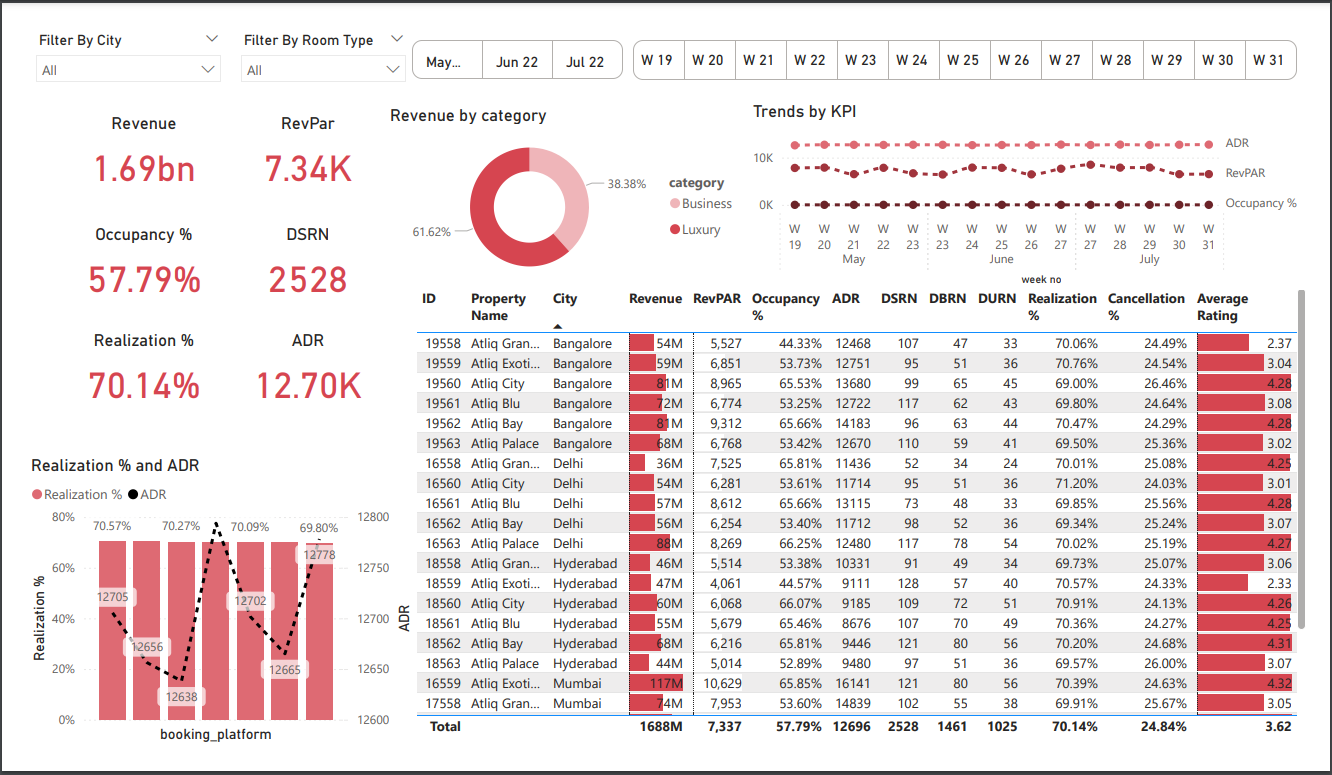

The page's visual inventory and layout, read from the dashboard file:
{"tool":"powerbi","page":{"name":"Page 1","canvas":[1280,720],"ordinal":0},"visuals":[{"type":"tableEx","fields":{"Values":["Dim_hotel.property_id","Dim_hotel.property_name","Dim_hotel.city","Key_measures (2).Revenue","Key_measures (2).RevPAR","Key_measures (2).Occupancy %","Key_measures (2).ADR","Key_measures (2).DSRN","Key_measures (2).DBRN","Key_measures (2).DURN","Key_measures (2).Realization %","Key_measures (2).Cancellation %"]},"box":[390.1,256.3,890.2,456.7],"z":0},{"type":"slicer","title":"Filter by City","fields":{"Values":["Dim_hotel.city"]},"box":[0,0,205,65],"z":1000},{"type":"slicer","title":"Filter by Room Type","fields":{"Values":["Dim_rooms.room_class"]},"box":[205,0,185,65],"z":2000},{"type":"advancedSlicerVisual","fields":{"Values":["Dim_date.mmm yy"]},"box":[381,8,221,49],"z":3000},{"type":"advancedSlicerVisual","fields":{"Values":["Dim_date.week no"]},"box":[602,8,678,50],"z":4000},{"type":"card","title":"Revenue","fields":{"Values":["Key_measures (2).Revenue"]},"box":[41,78,154,97],"z":5000},{"type":"card","title":"DSRN","fields":{"Values":["Key_measures (2).DSRN"]},"box":[205,189,154,97],"z":6000},{"type":"card","title":"Occupancy %","fields":{"Values":["Key_measures (2).Occupancy %"]},"box":[41,189,154,97],"z":7000},{"type":"card","title":"RevPar","fields":{"Values":["Key_measures (2).RevPAR"]},"box":[205,78,154,97],"z":8000},{"type":"card","title":"ADR","fields":{"Values":["Key_measures (2).ADR"]},"box":[205,295,154,97],"z":9000},{"type":"card","title":"Realization %","fields":{"Values":["Key_measures (2).Realization %"]},"box":[41,295,154,97],"z":10000},{"type":"donutChart","fields":{"Y":["Key_measures (2).Revenue"],"Series":["Dim_hotel.category"]},"box":[359,78,363,185],"z":11000},{"type":"lineChart","title":"Trends by KPI","fields":{"Category":["Dim_date.mmm yy.Variation.Date Hierarchy.Month","Dim_date.week no"],"Y":["Key_measures (2).RevPAR","Key_measures (2).ADR","Key_measures (2).Occupancy %"]},"box":[722,74,558,189],"z":12000},{"type":"lineStackedColumnComboChart","title":"Realization % and ADR","fields":{"Category":["fact_booking.booking_platform"],"Y":["Key_measures (2).Realization %"],"Y2":["Key_measures (2).ADR"]},"box":[0,428,390,292],"z":13000}]}

Visuals, with their boxes on the page's 1280x720 design canvas (x1, y1, x2, y2). These are canvas units, not pixel positions in the 1332x775 screenshot, which may show the page scaled, cropped or inside an application window:
tableEx - Dim_hotel.property_id x Dim_hotel.property_name: crop(390, 256, 1280, 713)
"Filter by City" slicer: crop(0, 0, 205, 65)
"Filter by Room Type" slicer: crop(205, 0, 390, 65)
advancedSlicerVisual - Dim_date.mmm yy: crop(381, 8, 602, 57)
advancedSlicerVisual - Dim_date.week no: crop(602, 8, 1280, 58)
"Revenue" card: crop(41, 78, 195, 175)
"DSRN" card: crop(205, 189, 359, 286)
"Occupancy %" card: crop(41, 189, 195, 286)
"RevPar" card: crop(205, 78, 359, 175)
"ADR" card: crop(205, 295, 359, 392)
"Realization %" card: crop(41, 295, 195, 392)
donutChart - Key_measures (2).Revenue x Dim_hotel.category: crop(359, 78, 722, 263)
"Trends by KPI" lineChart: crop(722, 74, 1280, 263)
"Realization % and ADR" lineStackedColumnComboChart: crop(0, 428, 390, 720)
